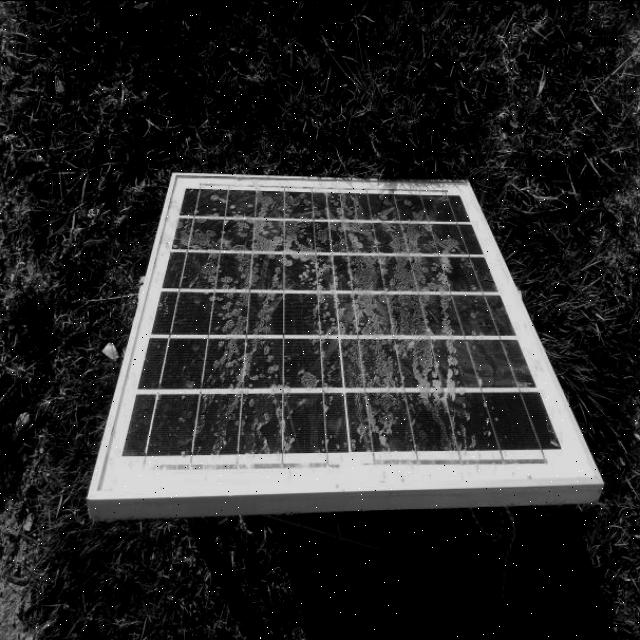Anomaly Solar Panel: (109, 176, 585, 481)
Surface Contaminant: (151, 185, 538, 450)
